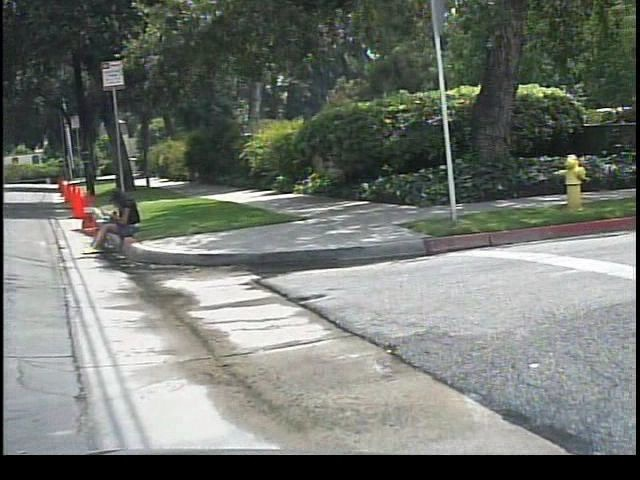person: (87, 185, 151, 256)
